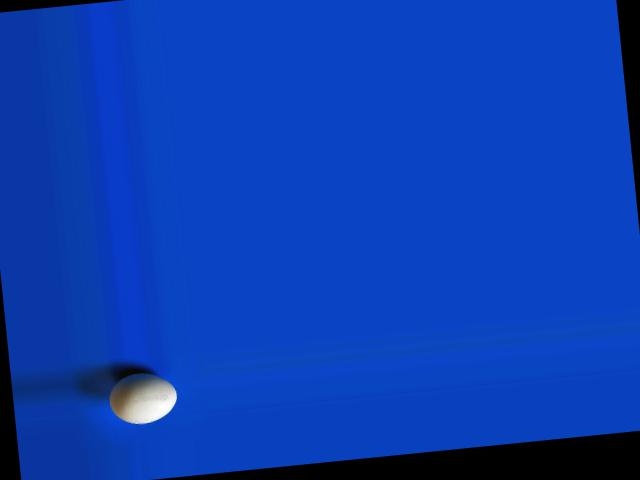egg: (106, 369, 179, 426)
